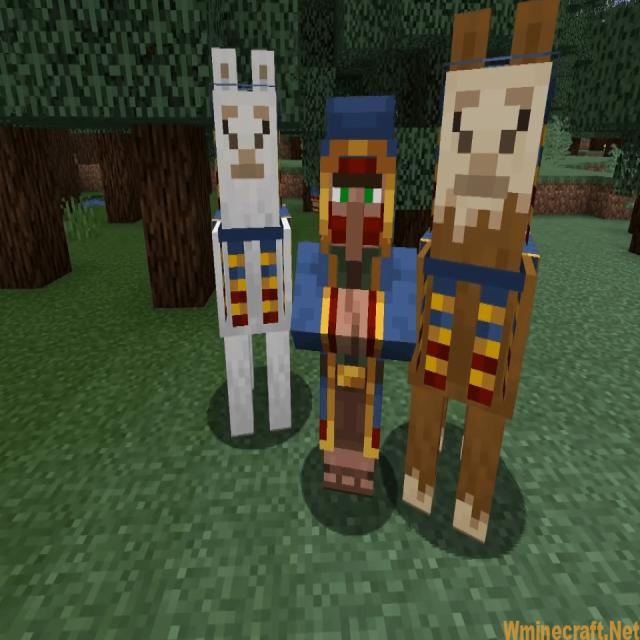Trader Lama: (401, 2, 562, 546), (209, 38, 294, 437)
